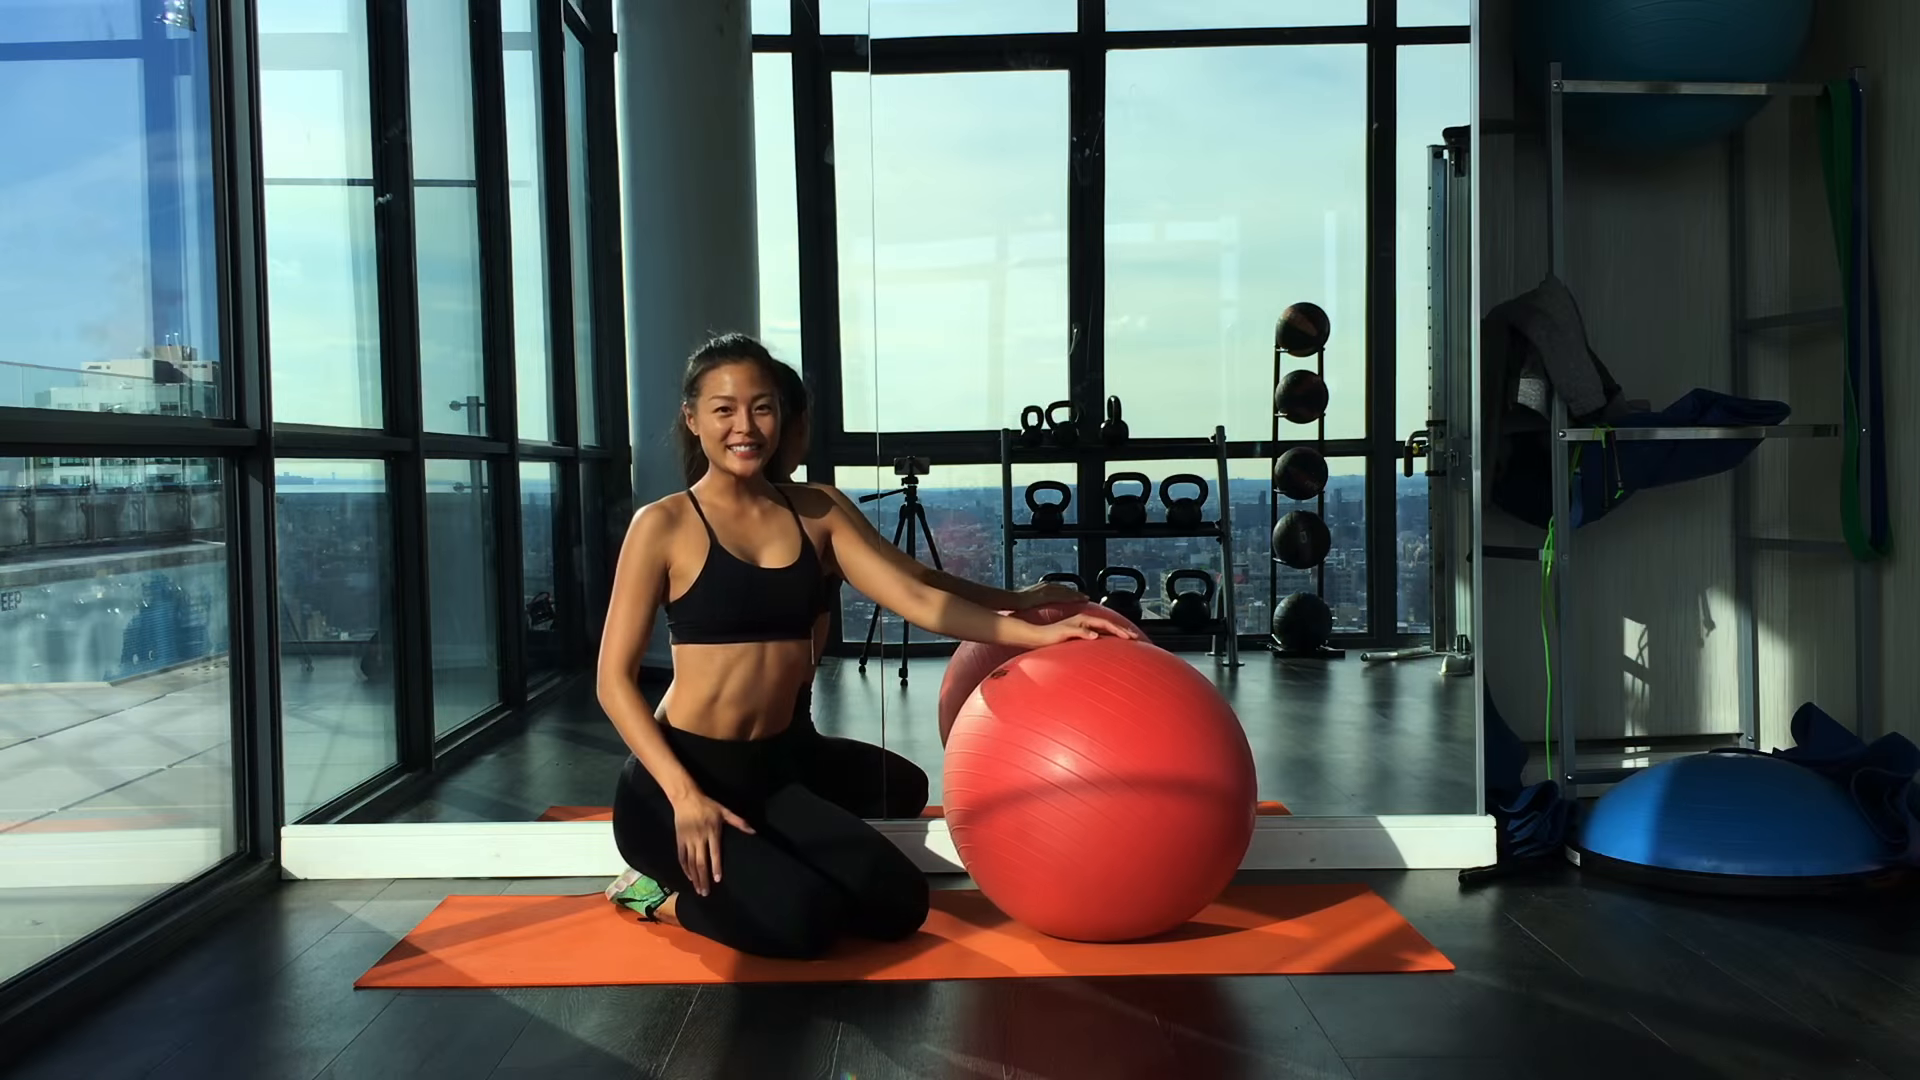yogaball: (930, 636, 1265, 951)
